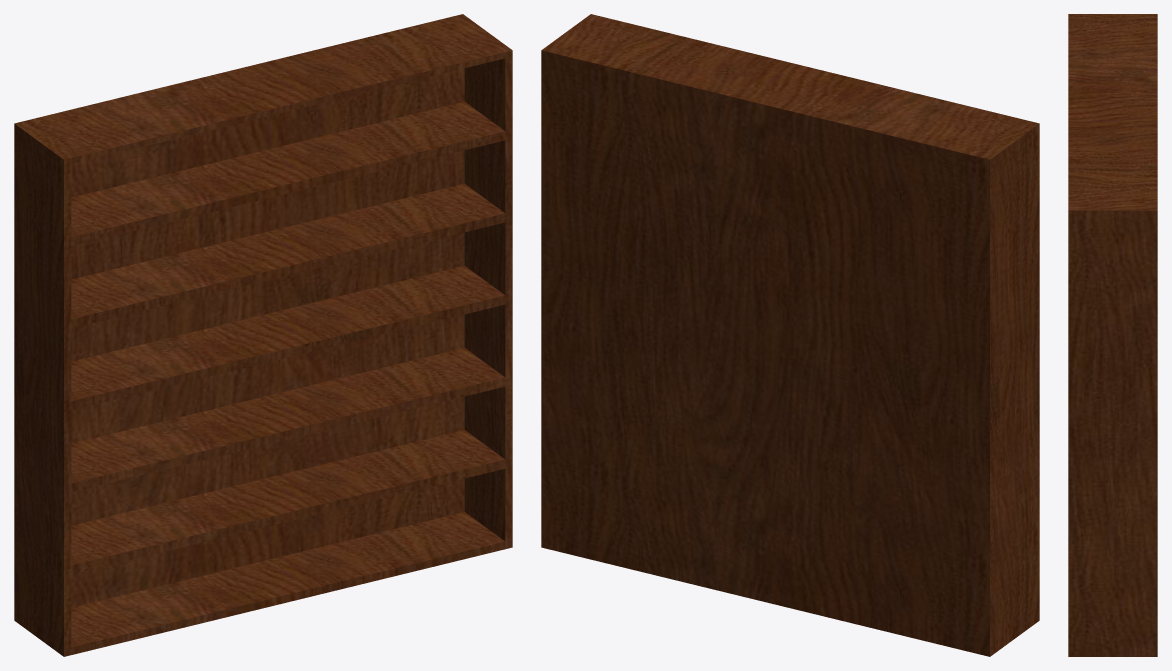
The model's file is Bookcase.dae.
3 views of the same model, side by side, from view 1: azimuth 30°, elevation 25°; view 2: azimuth 150°, elevation 25°; view 3: azimuth 270°, elevation 25° (orthographic). The views are drawn at different scales.
Parts seen in each view (by area): view 1: SketchUp (×2); view 2: SketchUp; view 3: SketchUp.
Boxes of the visible parts, box(x1,y1,x2,y2) form: SketchUp (×2): box(14, 14, 512, 656); SketchUp: box(541, 14, 1039, 656); SketchUp: box(1068, 14, 1157, 656).
Bounding box in the file's own units: 85.52 × 16.39 × 90.55.
1 material, 1 textured.
